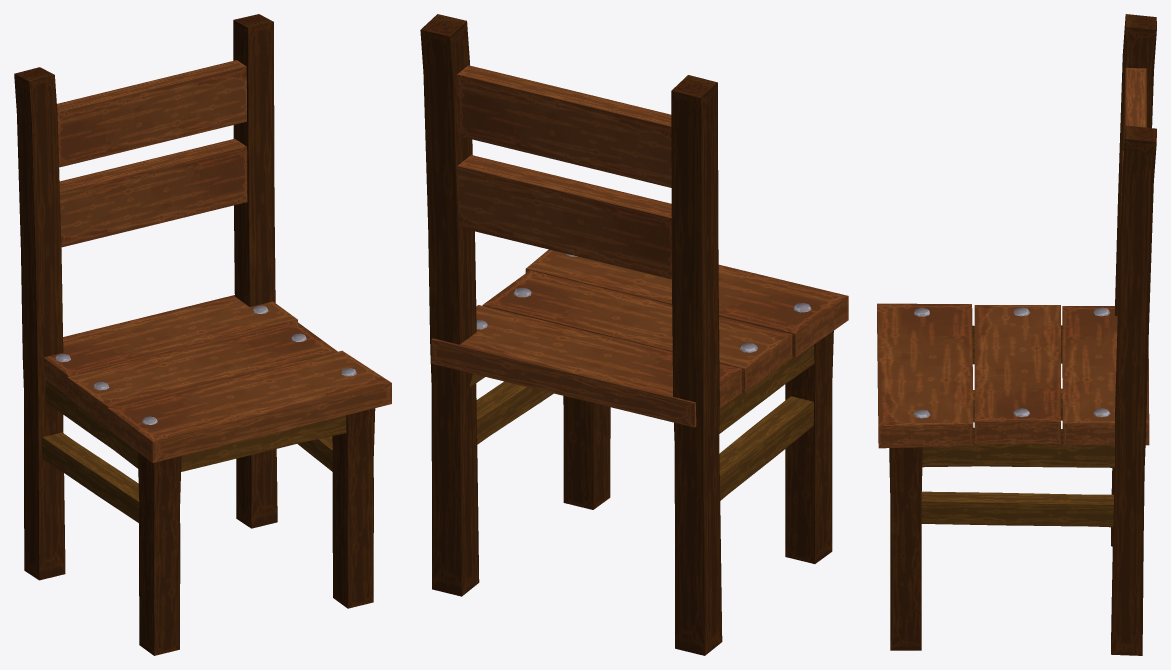
The model's file is Chair_1.gltf.
3 renders of one model, left to right at view 1: azimuth 30°, elevation 25°; view 2: azimuth 150°, elevation 25°; view 3: azimuth 270°, elevation 25°, orthographic. The views are drawn at different scales.
Visible parts, largest first — view 1: Chair_1; view 2: Chair_1; view 3: Chair_1.
Part boxes in pixels (x1,y1,x2,y2): Chair_1: (14,14,391,655); Chair_1: (420,14,848,655); Chair_1: (877,14,1156,655).
Size of the model in its own units: 0.5805 by 1.12 by 0.5489.
2 materials, 2 textured.
